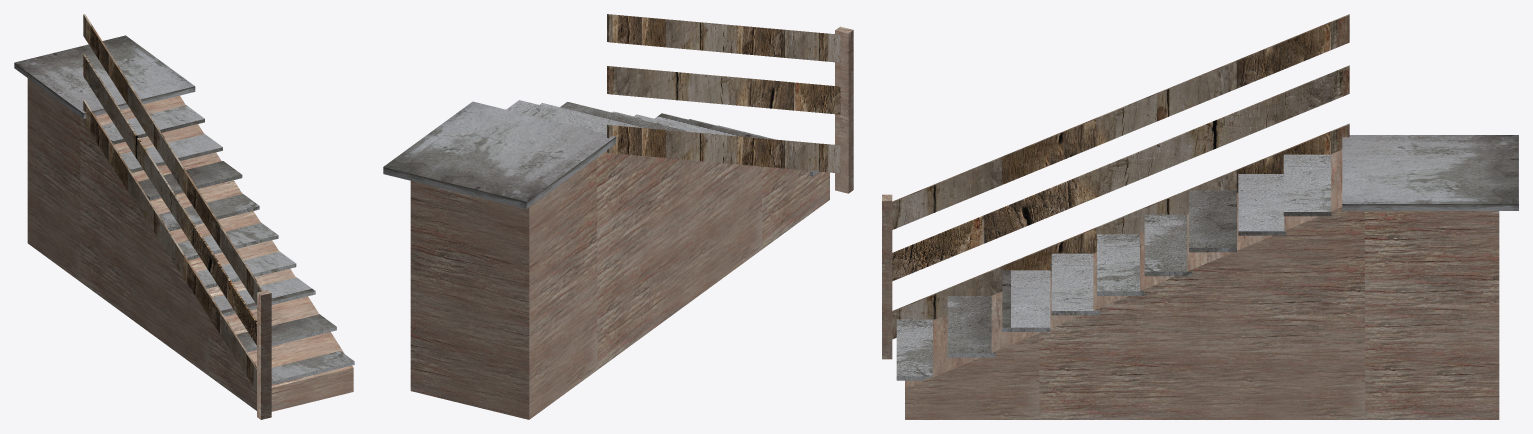
The model's file is stairs_lower.FBX.
3 renders of one model, left to right at view 1: azimuth 30°, elevation 25°; view 2: azimuth 150°, elevation 25°; view 3: azimuth 270°, elevation 25°, orthographic. The views are drawn at different scales.
Visible parts, largest first — view 1: Box051, Box022, Box048; view 2: Box051, Box048, Box022; view 3: Box051, Box022, Box048.
Boxes of the visible parts, bbox=[...] form: Box051: bbox=[27, 78, 353, 419]; Box022: bbox=[14, 35, 354, 384]; Box048: bbox=[83, 14, 263, 390]; Box051: bbox=[410, 26, 853, 419]; Box048: bbox=[607, 14, 840, 173]; Box022: bbox=[383, 100, 818, 208]; Box051: bbox=[882, 150, 1499, 419]; Box022: bbox=[896, 135, 1518, 380]; Box048: bbox=[892, 14, 1349, 339].
Size of the model in its own units: 3.11 by 7.04 by 11.71.
Materials: 3 (3 with a texture image).
